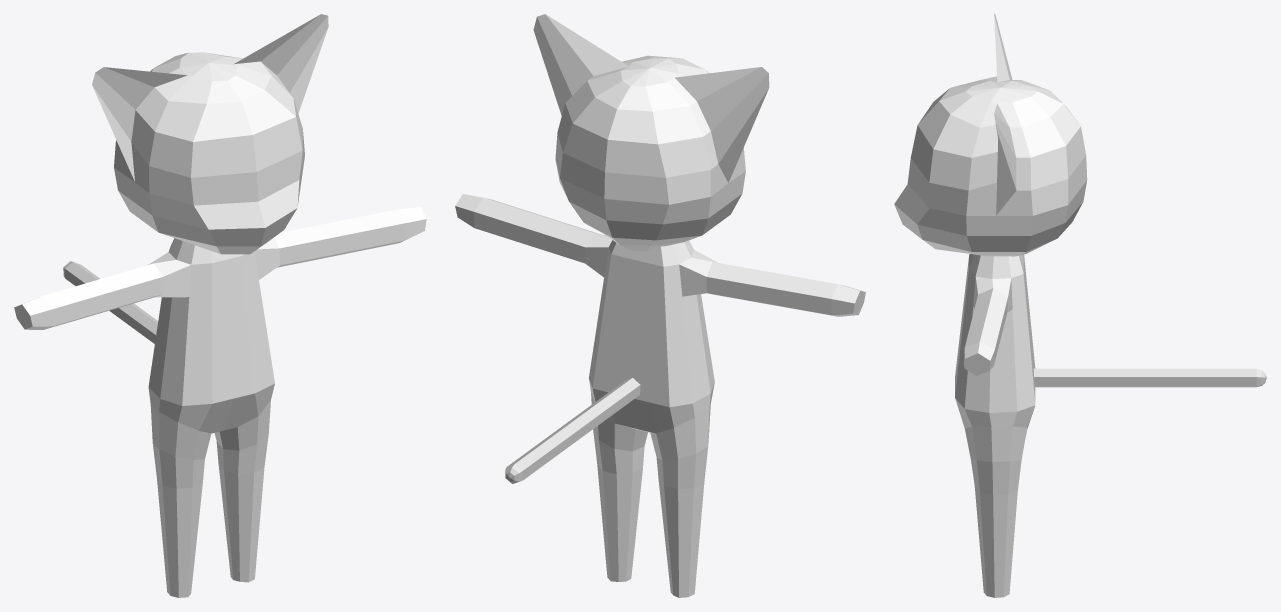
File: cat2.glb
The picture shows the model from 3 angles, left to right: view 1: azimuth 30°, elevation 25°; view 2: azimuth 150°, elevation 25°; view 3: azimuth 270°, elevation 25°; orthographic projection. The views are drawn at different scales.
Parts seen in each view (by area): view 1: body.001, face, Tail; view 2: body.001, face, Tail; view 3: face, body.001, Tail.
Part boxes in pixels (x1,y1,x2,y2): body.001: (14, 207, 426, 597); face: (92, 14, 328, 254); Tail: (63, 261, 158, 343); body.001: (455, 194, 865, 597); face: (533, 14, 769, 251); Tail: (505, 378, 640, 483); face: (894, 14, 1087, 256); body.001: (955, 254, 1035, 597); Tail: (1033, 368, 1266, 387).
Bounding box in the file's own units: 1.45 × 1.88 × 1.24.
Materials: 3 (2 with a texture image).
